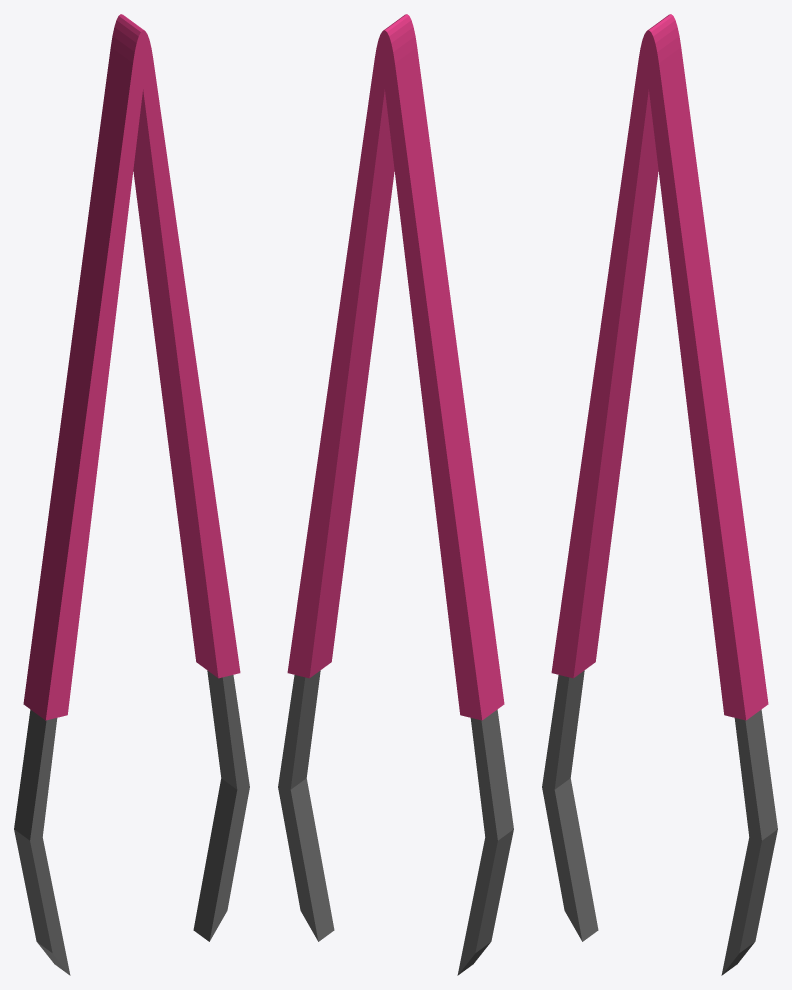
Rendered from Tweezers.fbx.
The picture shows the model from 3 angles, left to right: view 1: azimuth 30°, elevation 25°; view 2: azimuth 150°, elevation 25°; view 3: azimuth 330°, elevation 25°; orthographic projection.
Parts seen in each view (by area): view 1: Cimbiz; view 2: Cimbiz; view 3: Cimbiz.
Part boxes in pixels (x1,y1,x2,y2): Cimbiz: (14,14,249,975); Cimbiz: (278,14,513,975); Cimbiz: (542,14,777,975).
Bounding box in the file's own units: 158 × 640 × 27.77.
